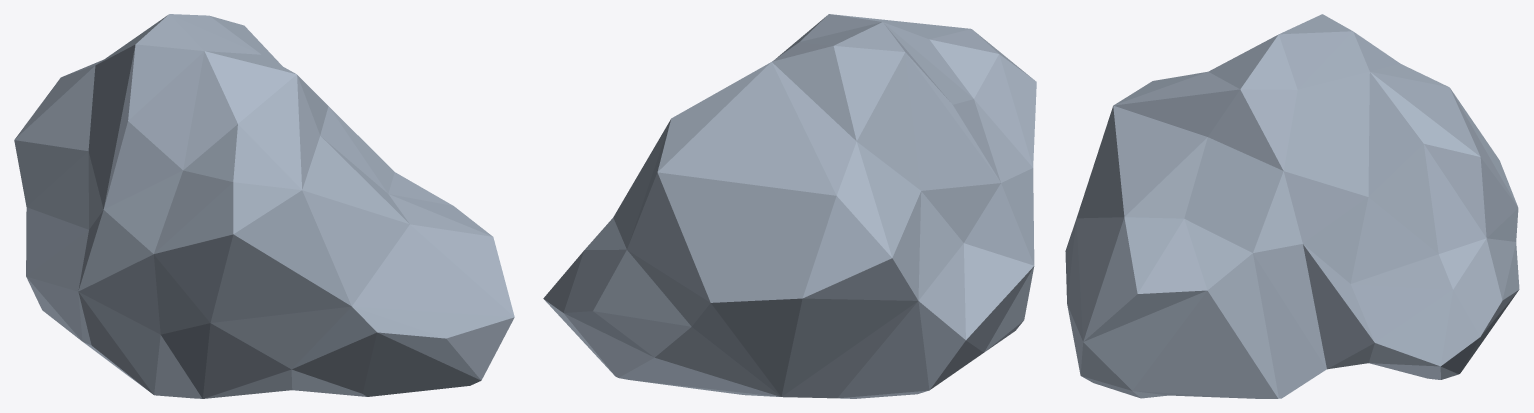
File: large_rock_2.fbx
3 views of the same model, side by side, from view 1: azimuth 30°, elevation 25°; view 2: azimuth 150°, elevation 25°; view 3: azimuth 270°, elevation 25° (orthographic). The views are drawn at different scales.
Parts seen in each view (by area): view 1: rock; view 2: rock; view 3: rock.
Part boxes in pixels (box(x1,y1,x2,y2)): rock: box(14, 14, 514, 398); rock: box(543, 14, 1036, 398); rock: box(1065, 14, 1519, 398).
Size of the model in its own units: 337 by 286 by 227.
